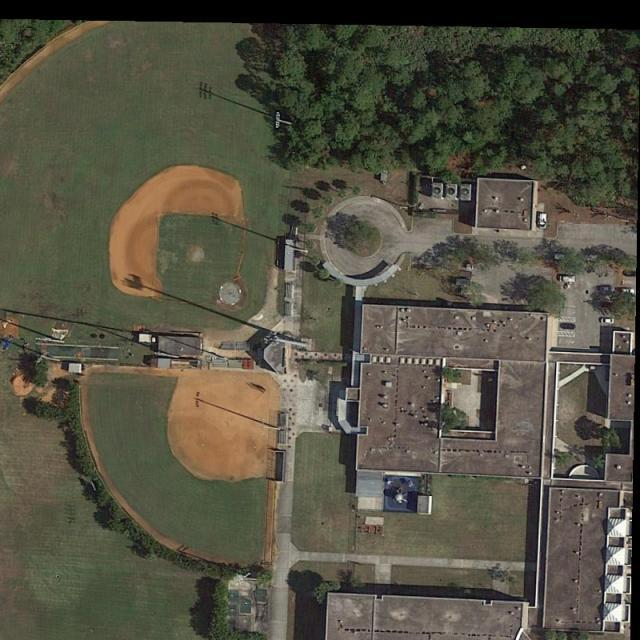vehicle: (538, 212, 548, 229), (560, 274, 576, 284), (560, 322, 578, 330), (599, 318, 615, 325), (601, 286, 615, 294), (622, 288, 635, 295)
